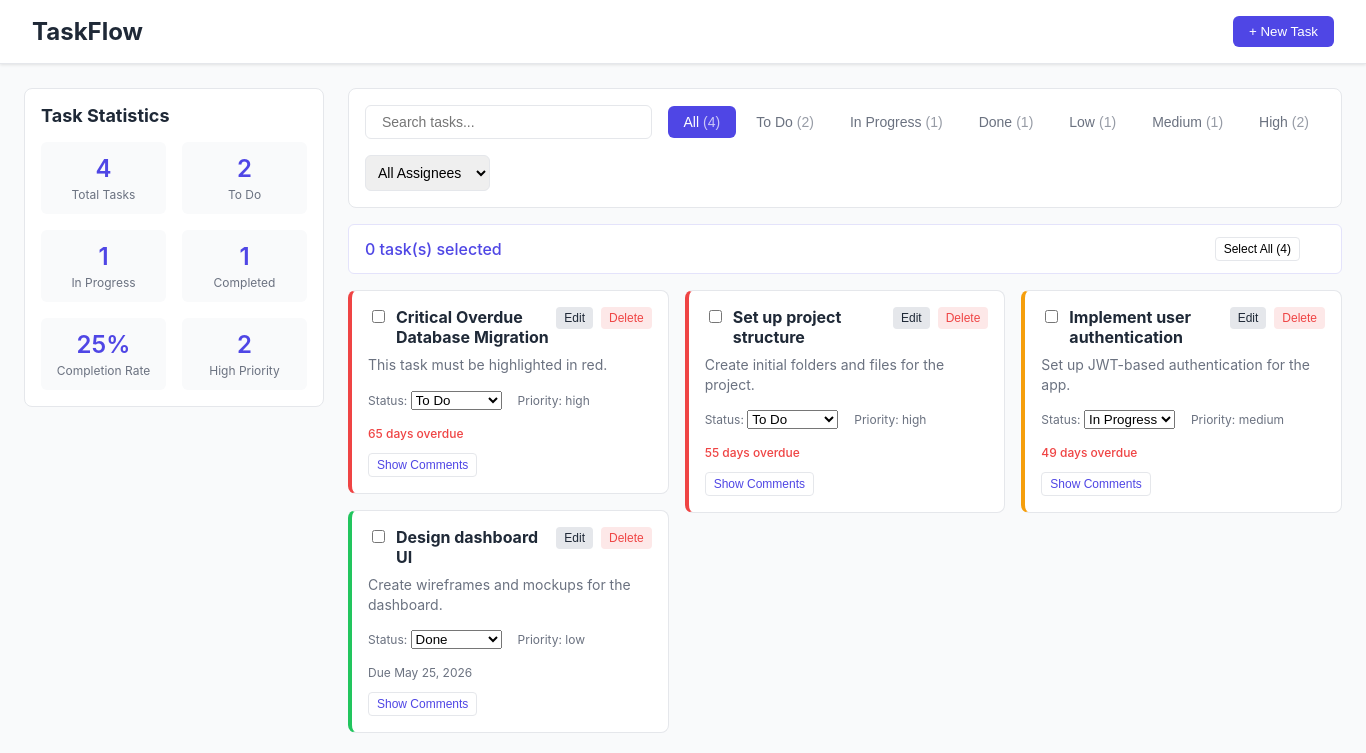
Test: TaskFlow Application › Task Comments (FEATURE) › should display comments section on task detail
Step 1. Click the button with test id "comments-toggle" below "65 days overdue" → click(423, 465), box x1=368 y1=453 x2=477 y2=477
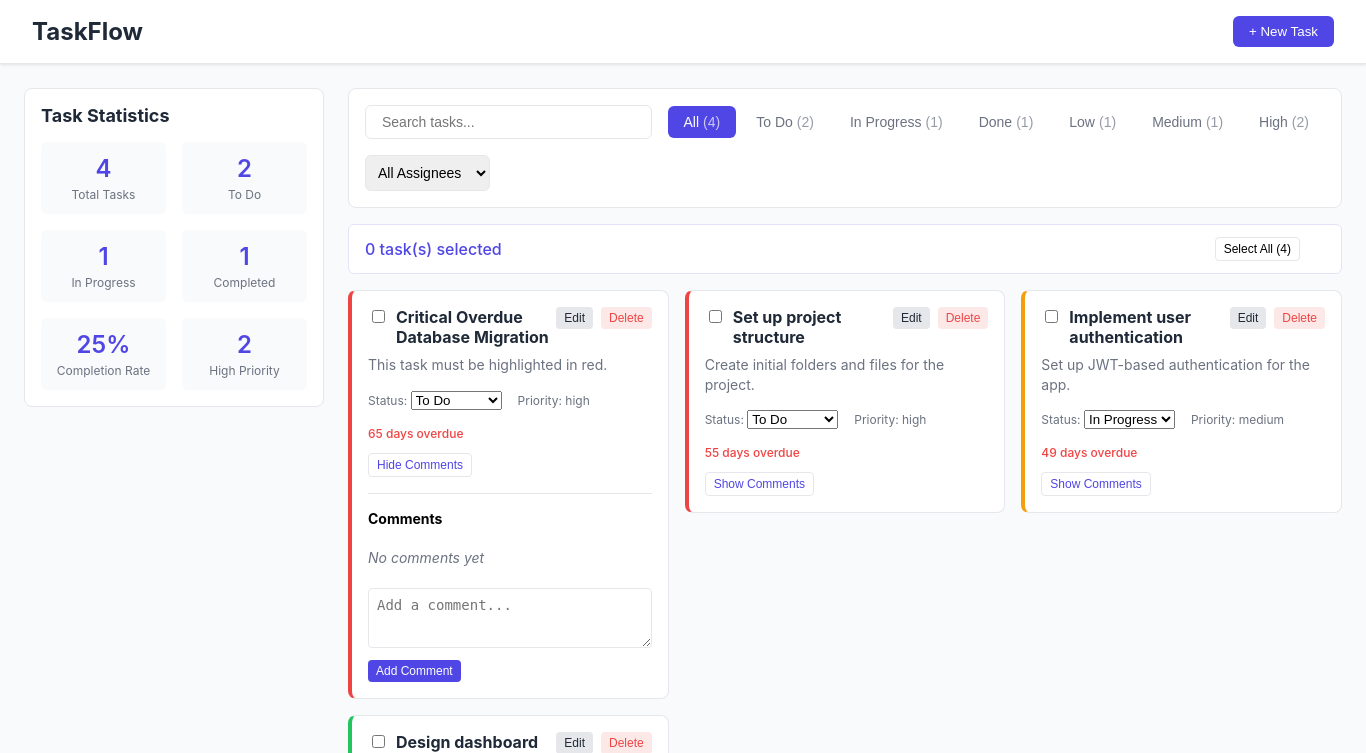
Expected: the element with test id "task-comments" is shown, x1=368 y1=493 x2=652 y2=682
Expected: the text "No comments yet" is shown, x1=368 y1=549 x2=484 y2=566
